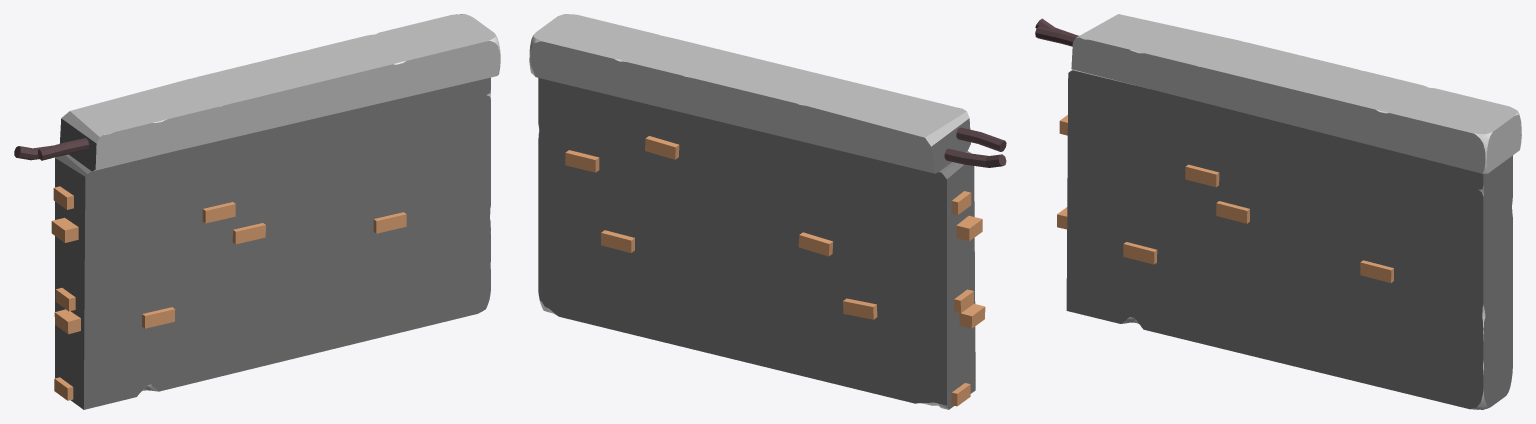
Rendered from wall_damged_2.fbx.
3 renders of one model, left to right at view 1: azimuth 30°, elevation 25°; view 2: azimuth 150°, elevation 25°; view 3: azimuth 330°, elevation 25°, orthographic. The views are drawn at different scales.
Visible parts, largest first — view 1: Cube.005_dmg.001, Cylinder.005, Cube.039, Cube.034, Cube.036, Cube.037, Cube.035, Cube.041; view 2: Cube.005_dmg.001, Cylinder.006, Cylinder.005, Cube.032, Cube.033, Cube.030, Cube.031, Cube.029, Cube.039, Cube.041; view 3: Cube.005_dmg.001, Cube.036, Cube.035, Cube.034, Cube.037, Cylinder.005.
Part boxes in pixels (box(x1,y1,x2,y2)): Cube.005_dmg.001: box(55, 14, 500, 409); Cylinder.005: box(37, 138, 89, 160); Cube.039: box(51, 217, 78, 242); Cube.034: box(373, 212, 406, 233); Cube.036: box(202, 202, 235, 223); Cube.037: box(232, 223, 265, 244); Cube.035: box(142, 307, 175, 328); Cube.041: box(54, 309, 80, 334); Cube.005_dmg.001: box(529, 14, 975, 409); Cylinder.006: box(944, 148, 1006, 167); Cylinder.005: box(956, 127, 1006, 151); Cube.032: box(565, 150, 599, 172); Cube.033: box(645, 136, 679, 159); Cube.030: box(798, 232, 833, 256); Cube.031: box(843, 298, 877, 319); Cube.029: box(601, 230, 634, 252); Cube.039: box(956, 215, 982, 241); Cube.041: box(959, 303, 985, 328); Cube.005_dmg.001: box(1066, 14, 1521, 409); Cube.036: box(1185, 164, 1219, 187); Cube.035: box(1123, 242, 1157, 264); Cube.034: box(1360, 260, 1393, 282); Cube.037: box(1216, 201, 1249, 223); Cylinder.005: box(1035, 26, 1078, 46).
Size of the model in its own units: 248 by 140 by 34.42.
